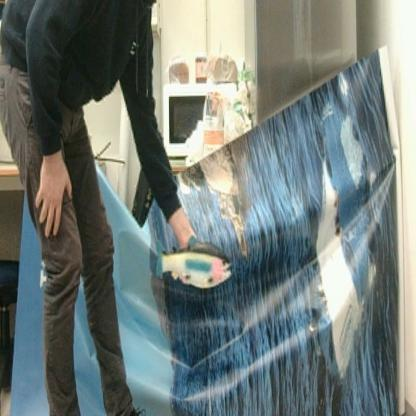rubberfish: (152, 235, 235, 291)
